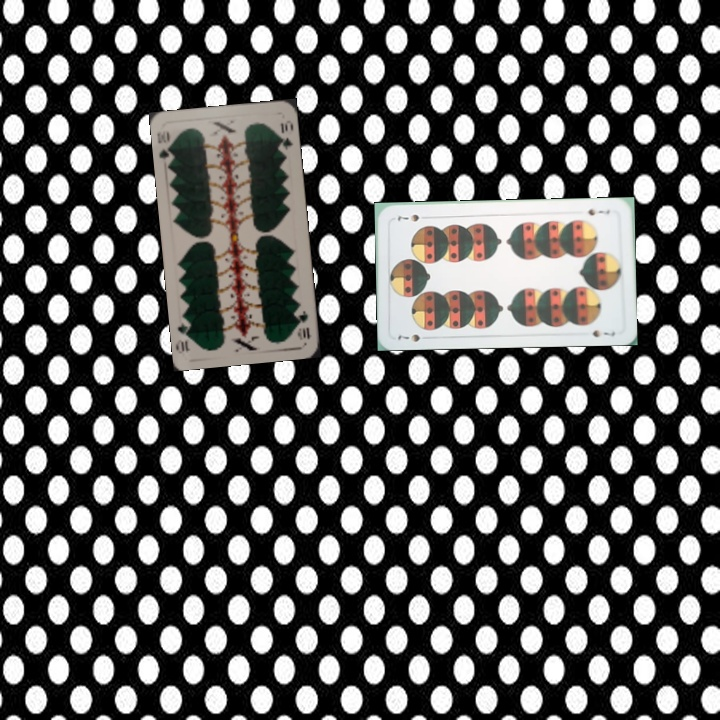G10: (154, 126, 176, 162), (293, 306, 313, 343)
S7: (394, 330, 422, 345), (584, 205, 612, 218)
